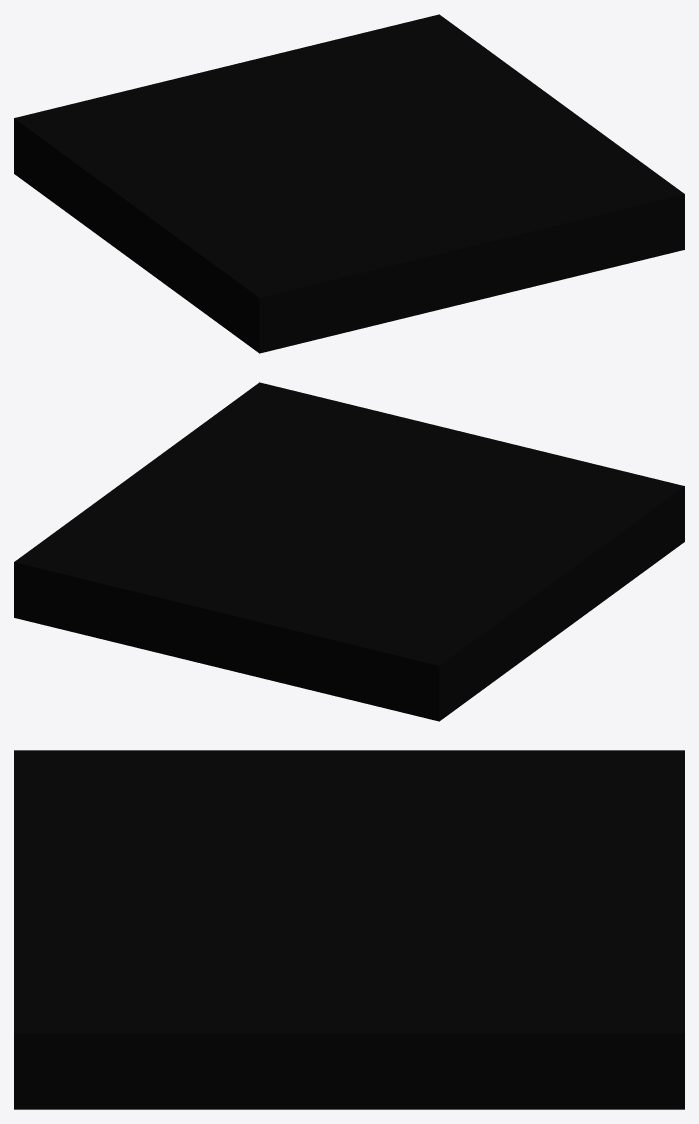
The model's file is light 2.obj.
3 views of the same model, one above another, from view 1: azimuth 30°, elevation 25°; view 2: azimuth 150°, elevation 25°; view 3: azimuth 270°, elevation 25° (orthographic). The views are drawn at different scales.
Visible parts, largest first — view 1: light 2; view 2: light 2; view 3: light 2.
Boxes of the visible parts, left/top/right/bottom form: light 2: left=14, top=14, right=684, bottom=353; light 2: left=14, top=382, right=684, bottom=721; light 2: left=14, top=750, right=684, bottom=1109.
Bounding box in the file's own units: 40 × 5 × 40.
Materials: 1 (1 with a texture image).
